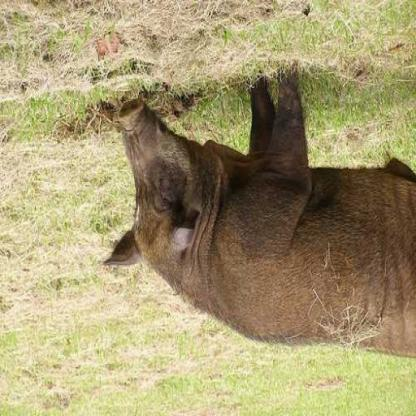boar: (84, 10, 415, 370)
